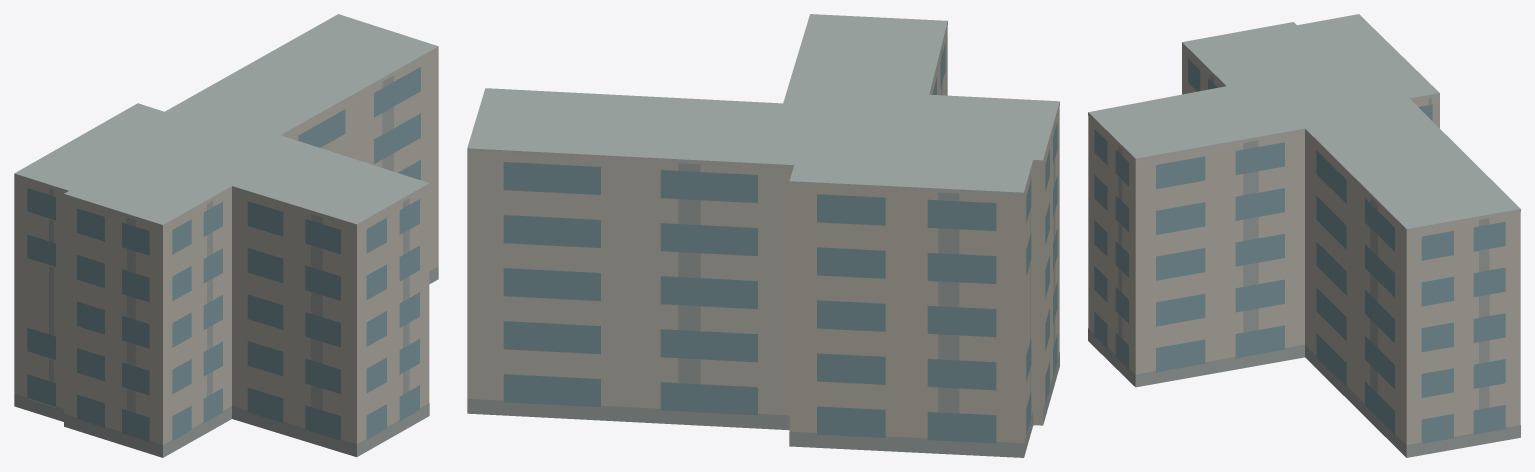
File: survey-upis-32979965.glb
3 views of the same model, side by side, from view 1: azimuth 30°, elevation 25°; view 2: azimuth 150°, elevation 25°; view 3: azimuth 270°, elevation 25° (orthographic). The views are drawn at different scales.
Parts seen in each view (by area): view 1: survey-upis-32979965.tmp; view 2: survey-upis-32979965.tmp; view 3: survey-upis-32979965.tmp.
Part boxes in pixels (x1,y1,x2,y2): survey-upis-32979965.tmp: (14,14,438,457); survey-upis-32979965.tmp: (467,14,1059,457); survey-upis-32979965.tmp: (1088,14,1520,457).
Size of the model in its own units: 31.46 by 15.6 by 26.75.
